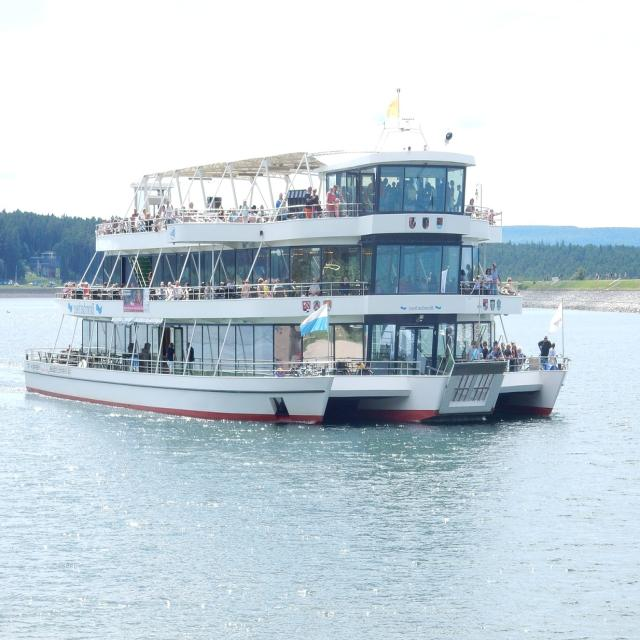houseboat: (28, 127, 564, 416)
